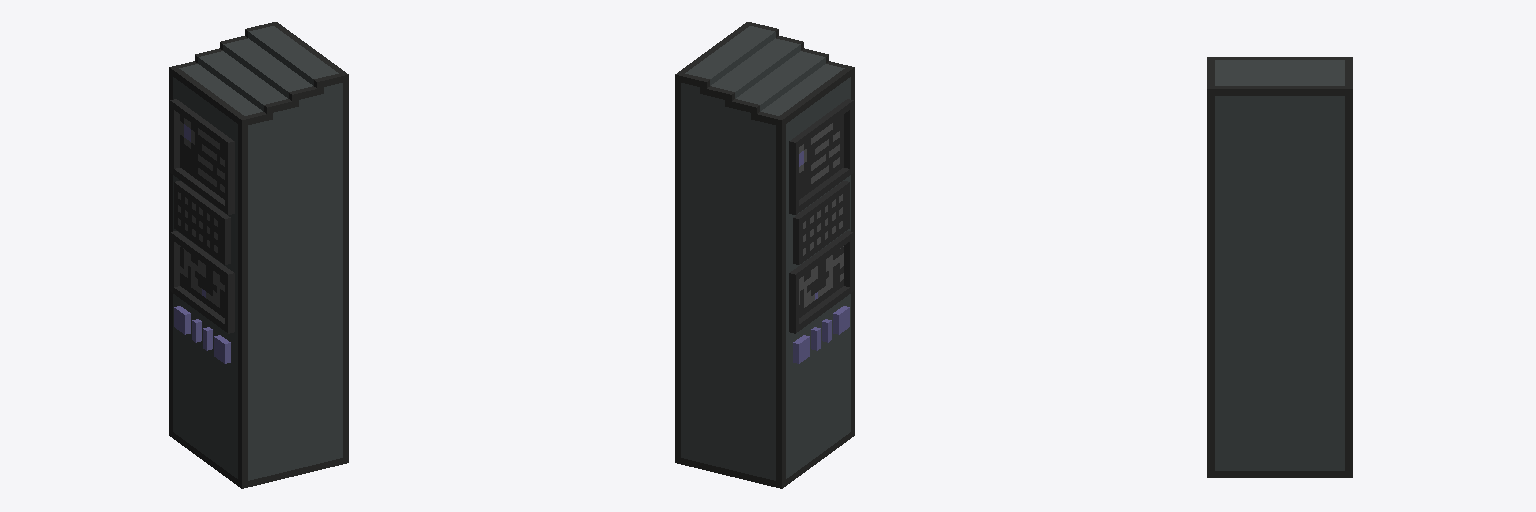
The picture shows the model from 3 angles: view 1: azimuth 30°, elevation 25°; view 2: azimuth 150°, elevation 25°; view 3: azimuth 270°, elevation 25°; orthographic projection.
Parts seen in each view (by area): view 1: object 1; view 2: object 1; view 3: object 1.
Part boxes in pixels (x1,y1,x2,y2): object 1: (169, 22, 348, 488); object 1: (675, 22, 854, 488); object 1: (1207, 57, 1352, 477).
Size of the model in its own units: 1.8 by 5.9 by 2.
1 materials, 1 textured.